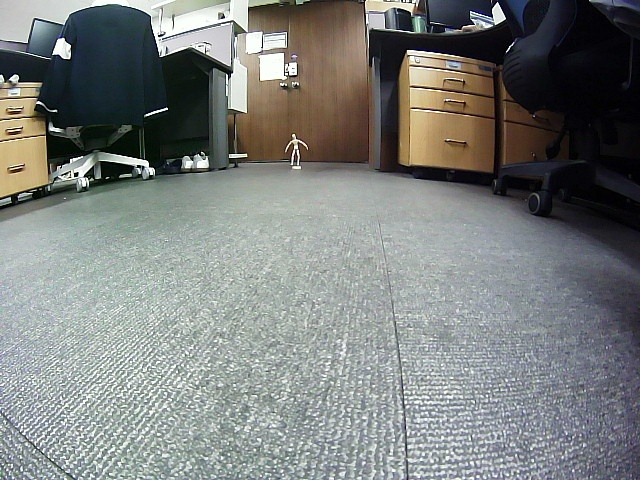person: (285, 133, 308, 166)
